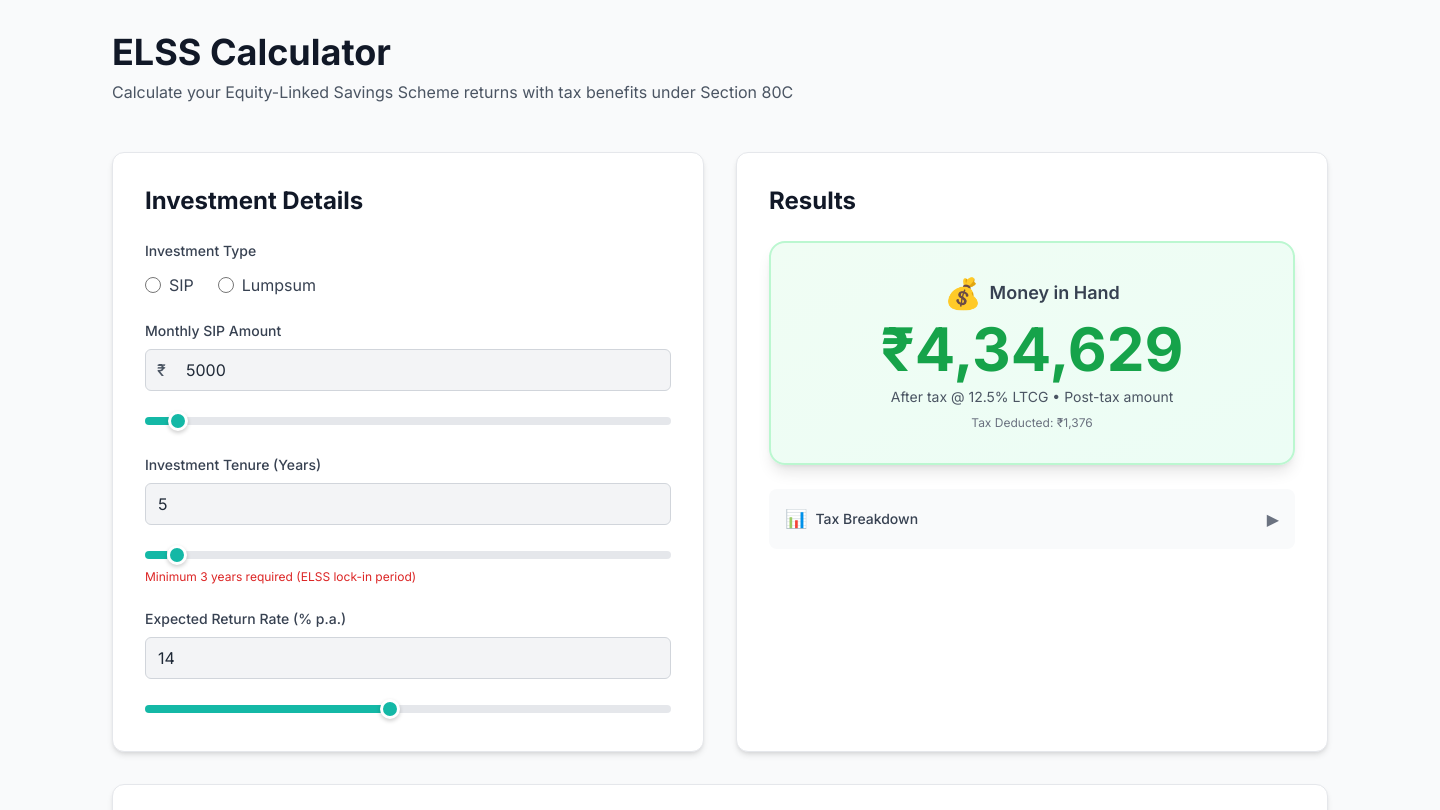
Test: ELSS Calculator › ELSS-24: Lumpsum mode › should switch to lumpsum investment type
Click the radio button labelled "Lumpsum" at {"x": 226, "y": 285}, box [218,277,234,293]
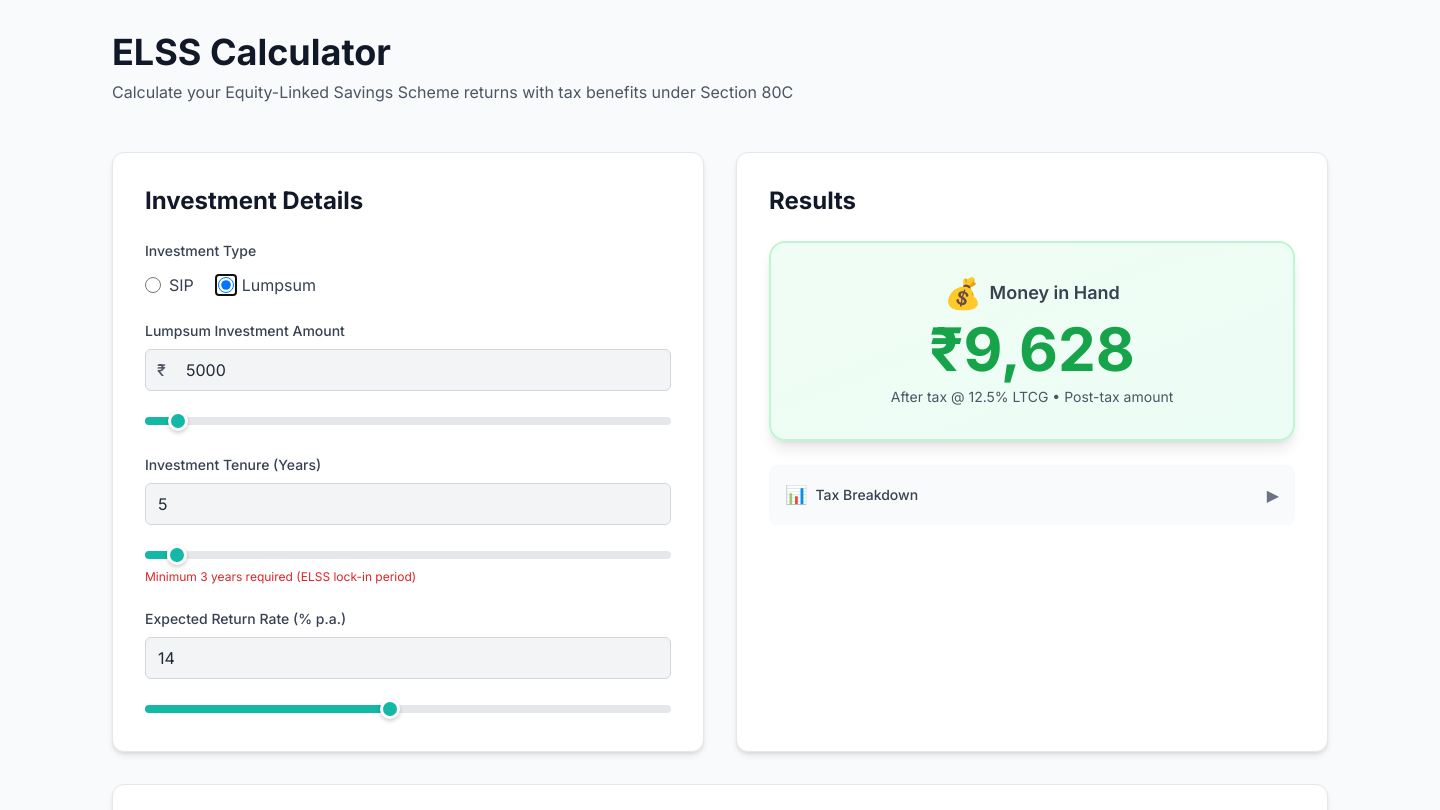
Result: the radio button labelled "Lumpsum" is checked at [218,277,234,293]
Result: the text "Lumpsum Investment Amount" is shown at [145,322,345,339]
